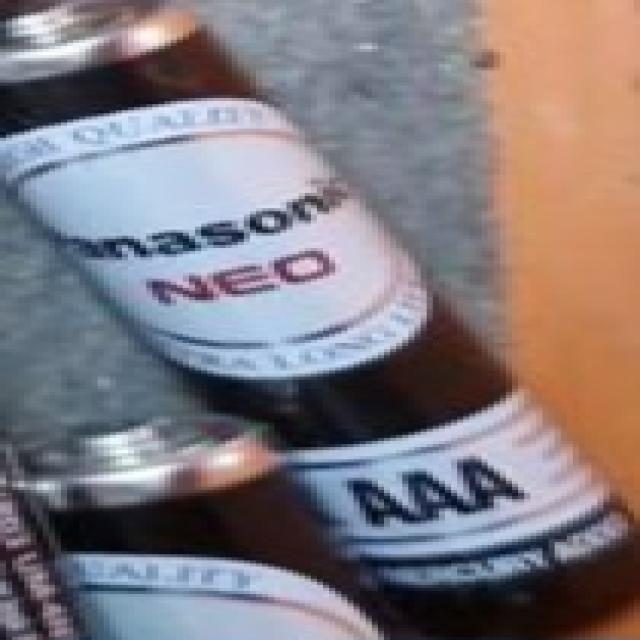battery: (0, 0, 554, 609)
